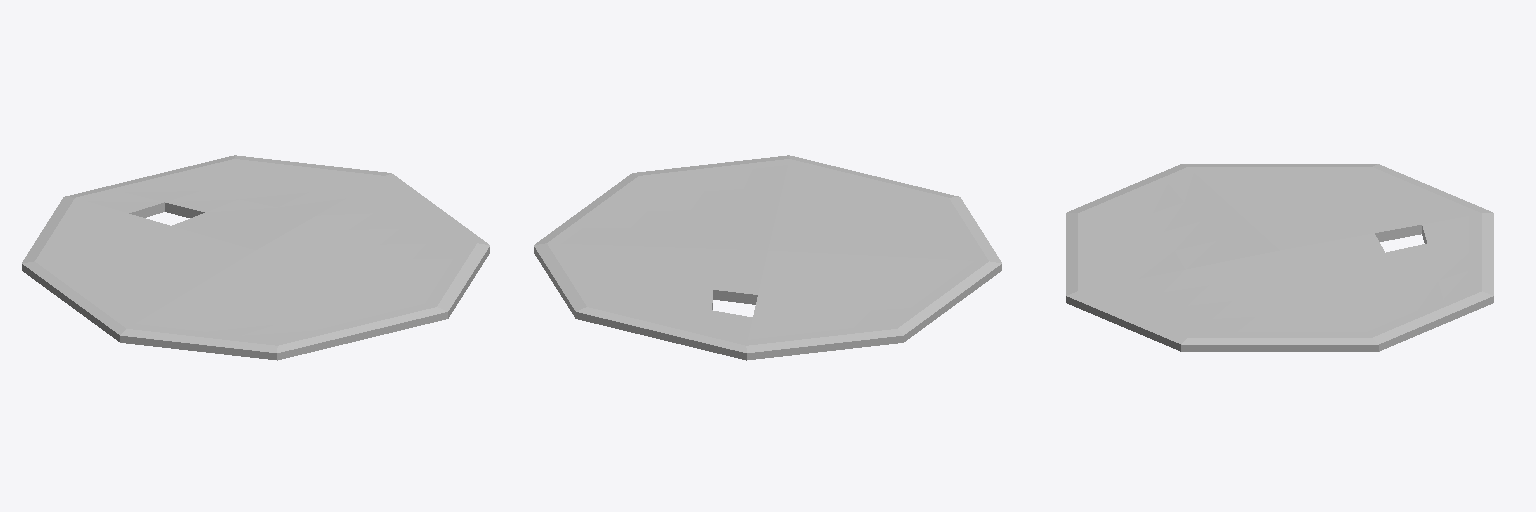
Rendered from floor_2.obj.
The picture shows the model from 3 angles: view 1: azimuth 30°, elevation 25°; view 2: azimuth 150°, elevation 25°; view 3: azimuth 270°, elevation 25°; orthographic projection.
Parts seen in each view (by area): view 1: floor.002; view 2: floor.002; view 3: floor.002.
Boxes of the visible parts, box(x1,y1,x2,y2) form: floor.002: box(22, 155, 489, 360); floor.002: box(534, 155, 1001, 360); floor.002: box(1066, 164, 1493, 351).
Size of the model in its own units: 32.5 by 0.9254 by 32.5.